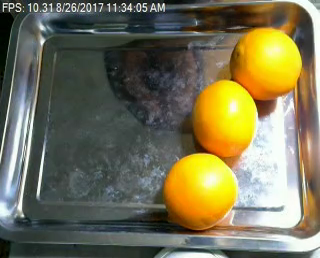Orange: (163, 152, 239, 230), (190, 78, 257, 157), (229, 27, 301, 100)
